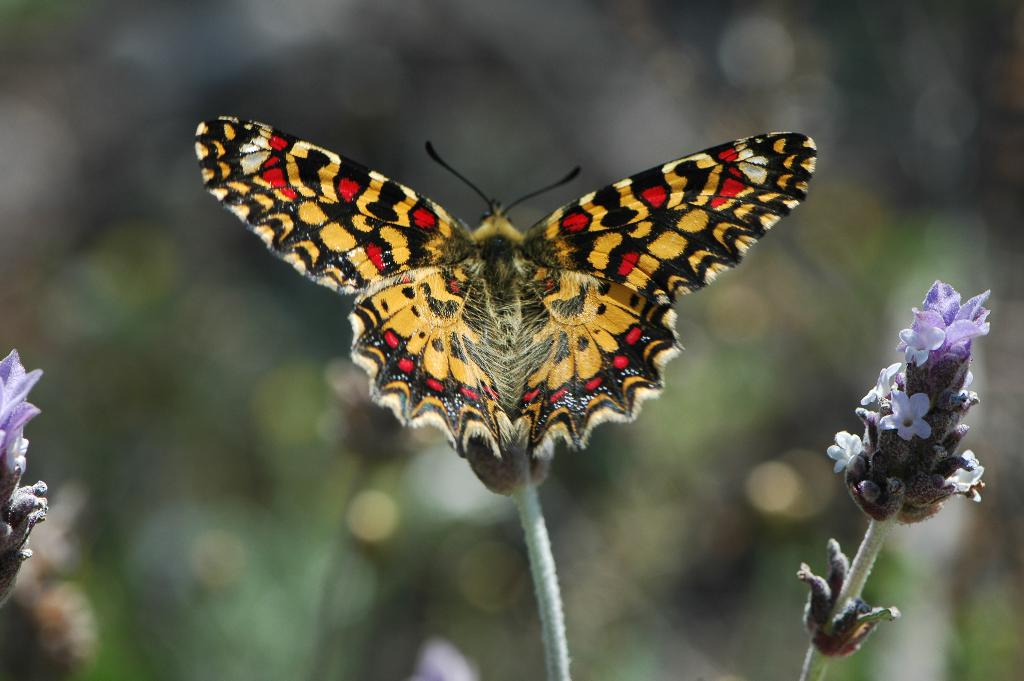Butterfly: (177, 91, 849, 470)
